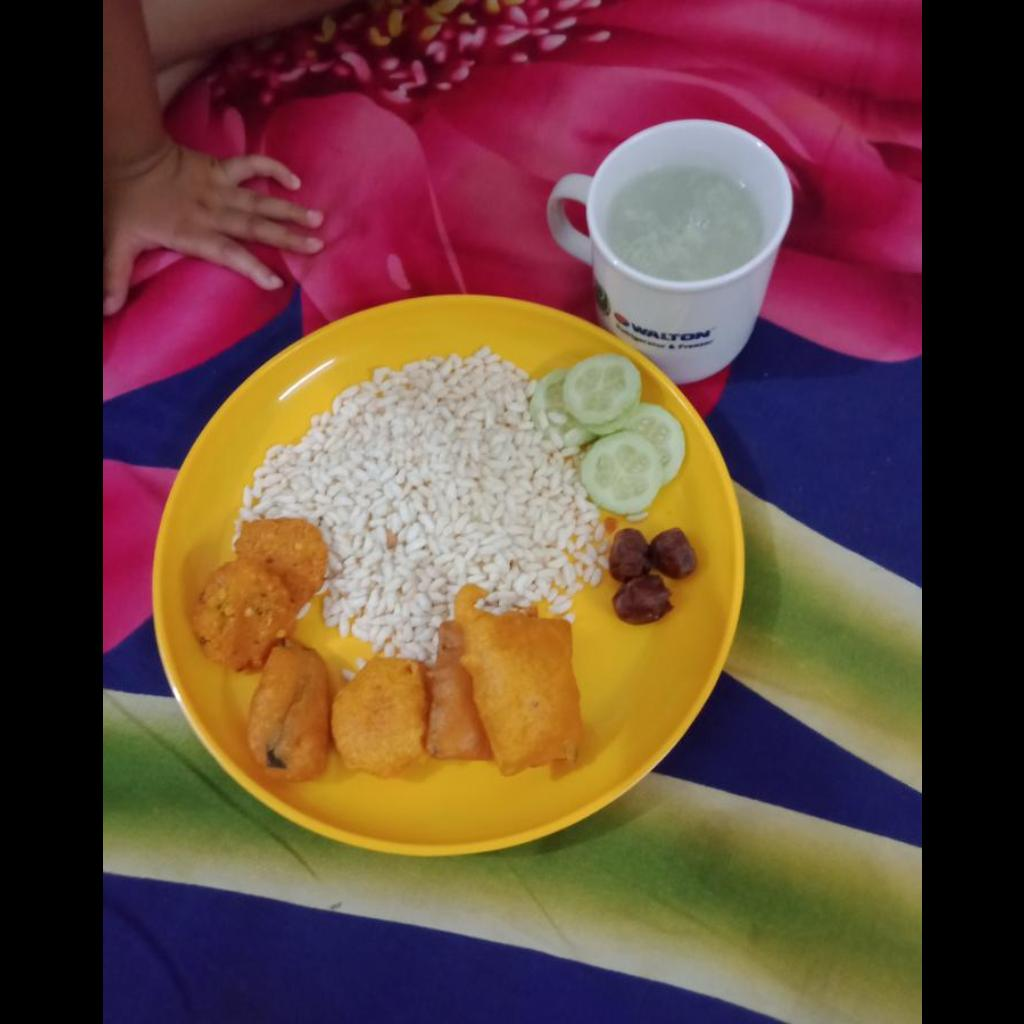beguni: (438, 619, 584, 766)
chop-alu: (254, 656, 429, 782)
cucumber: (540, 359, 680, 518)
dates: (610, 523, 695, 625)
juice: (608, 168, 762, 286)
peyaju: (188, 519, 327, 669)
puffed-rice: (250, 351, 588, 643)
